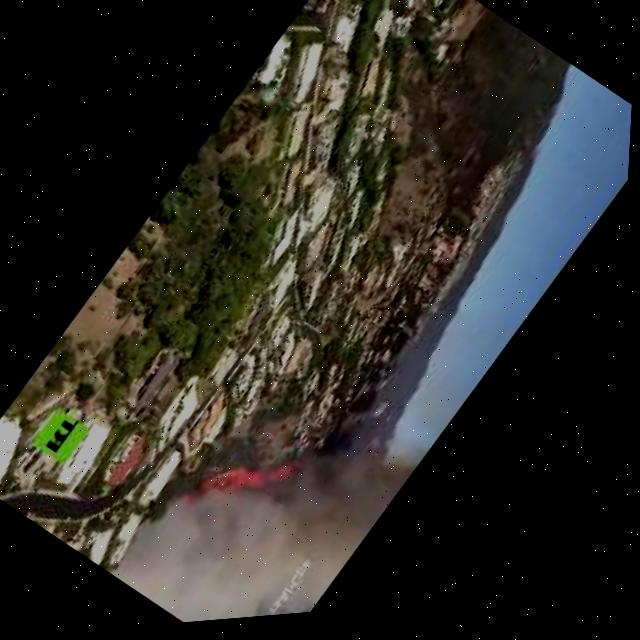Fire: (181, 412, 318, 554)
Smoke: (112, 351, 437, 631)
